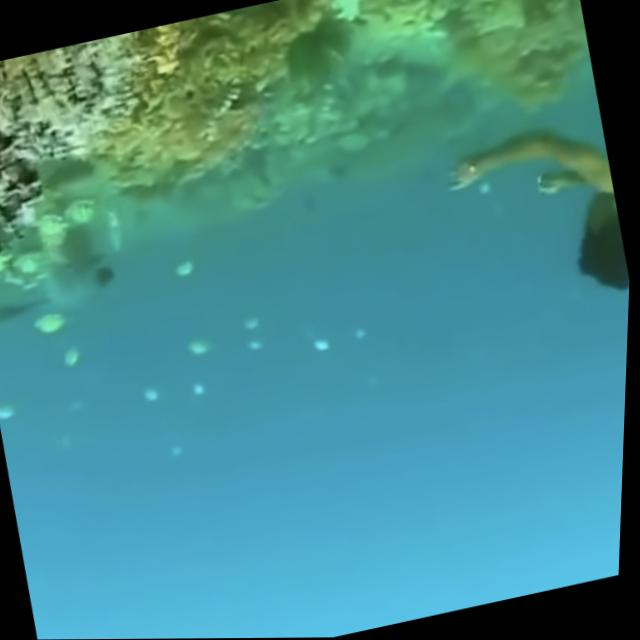human: (386, 0, 640, 428)
